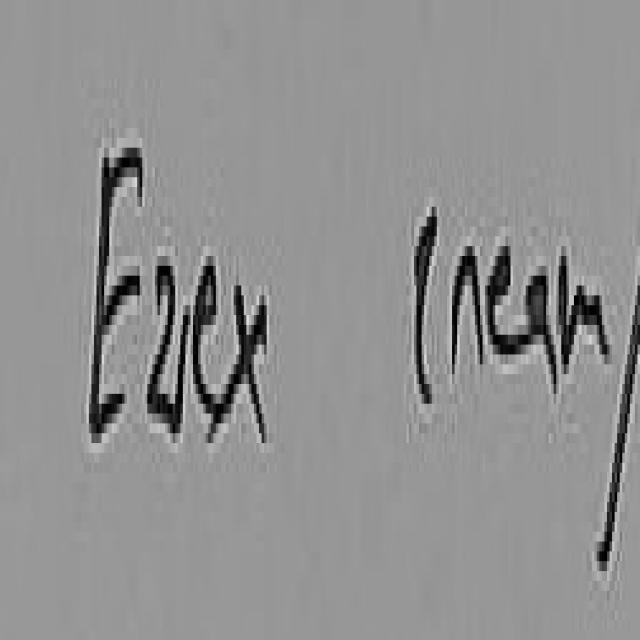E: (89, 148, 142, 443)
a: (528, 276, 559, 394)
c: (417, 207, 439, 404)
e: (488, 246, 531, 354), (193, 266, 218, 414)
m: (561, 256, 612, 374)
r: (455, 246, 485, 369)
x: (213, 286, 267, 443)
z: (147, 266, 190, 433)
